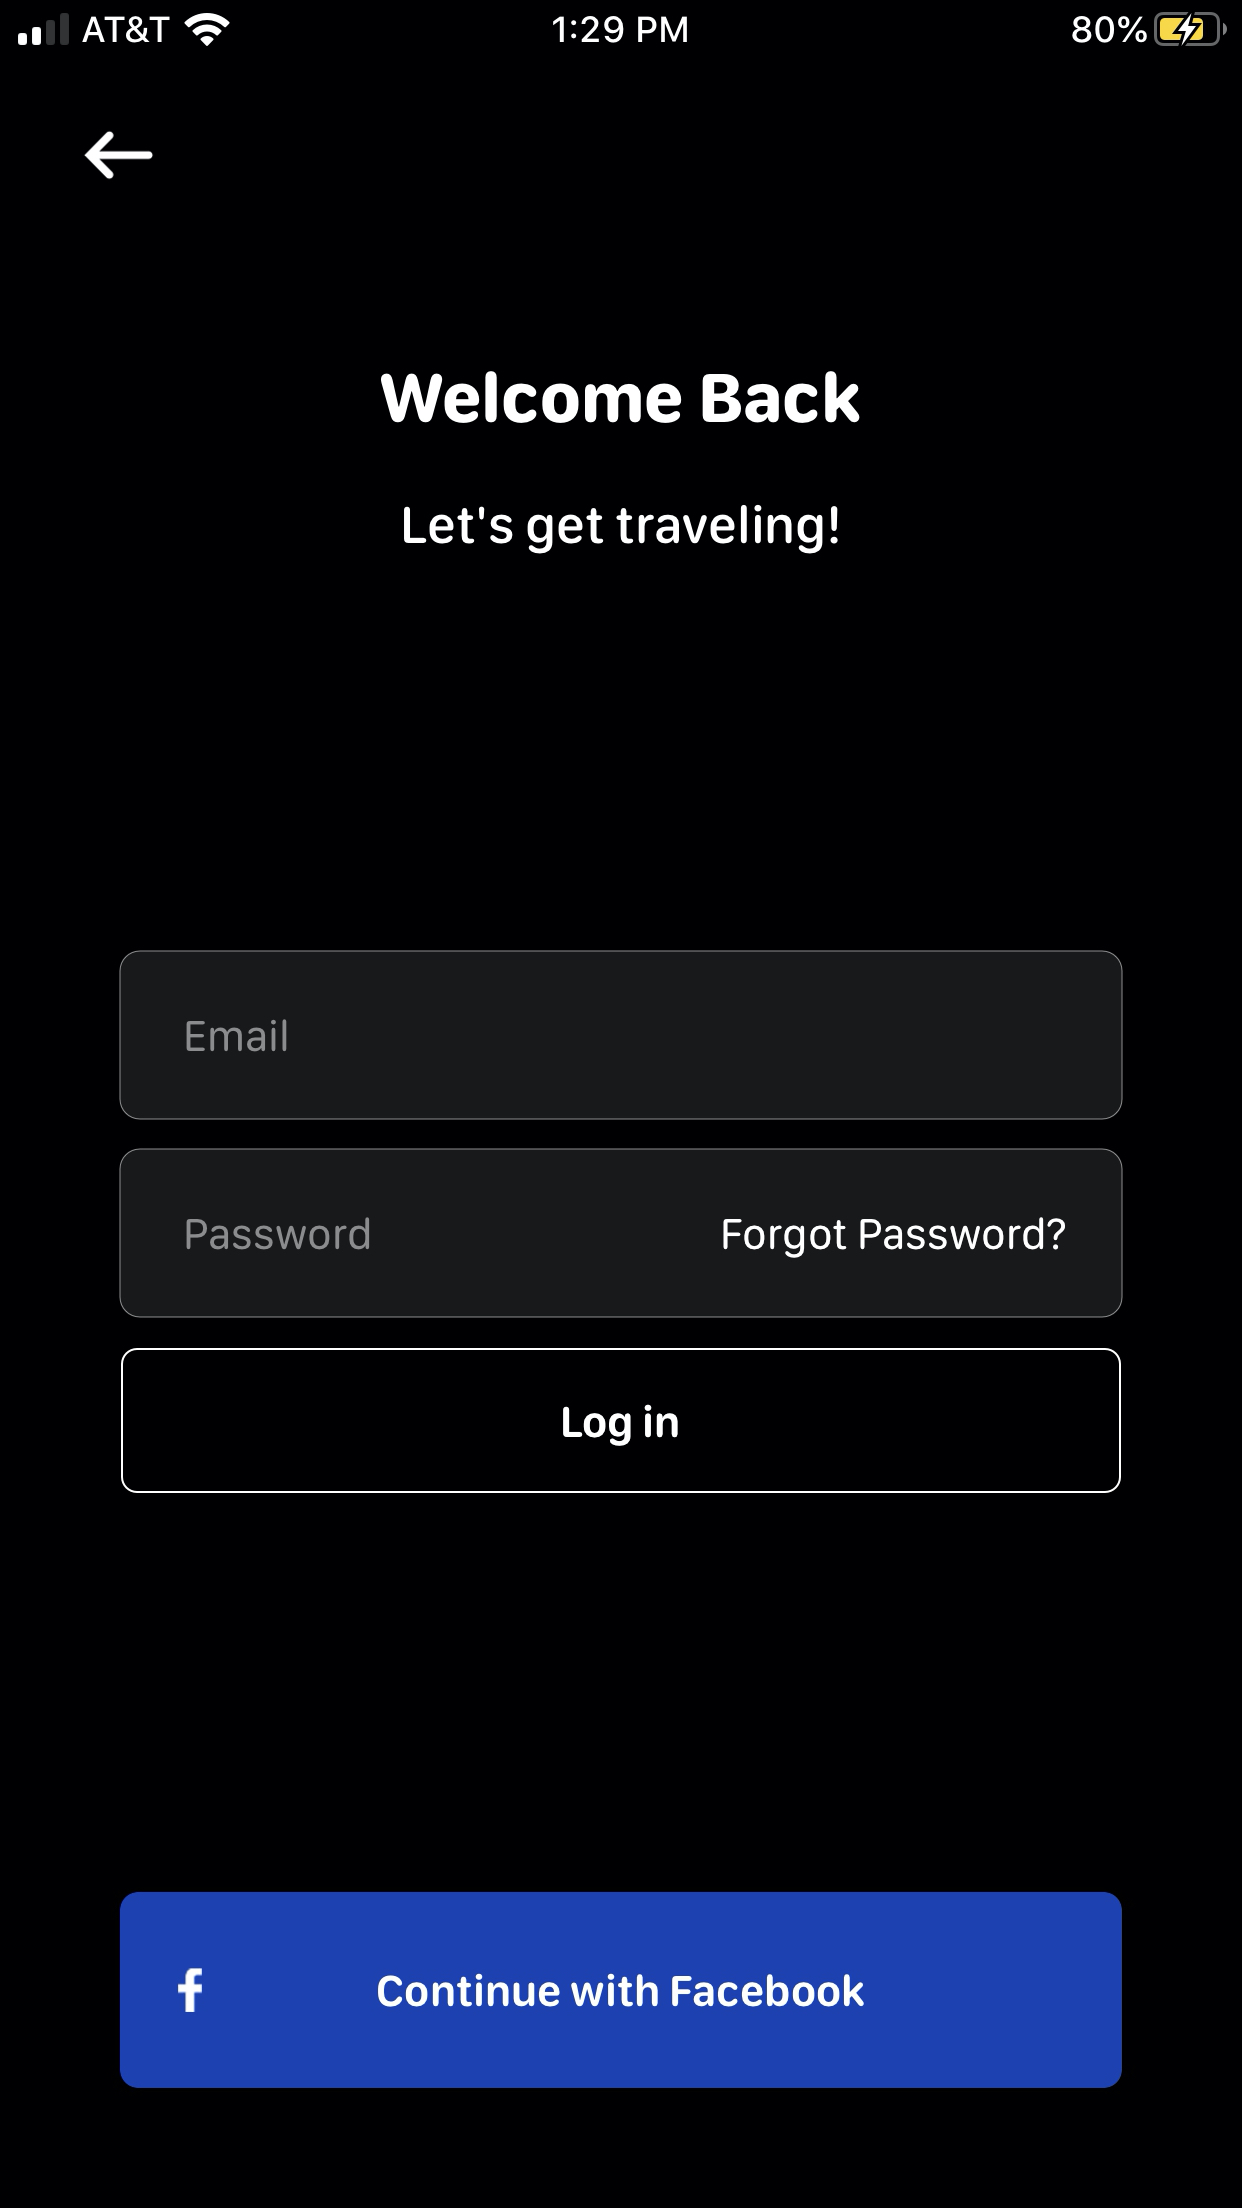EditText: (118, 1148, 1124, 1319), (118, 949, 1124, 1121)
Icon: (83, 130, 155, 180)
Text: (381, 372, 860, 425), (403, 505, 839, 555), (723, 1218, 1065, 1259), (187, 1218, 372, 1251), (187, 1019, 288, 1052)
TextButton: (121, 1893, 1122, 2088), (121, 1348, 1121, 1494)
UpperTaskBar: (2, 2, 1242, 49)
